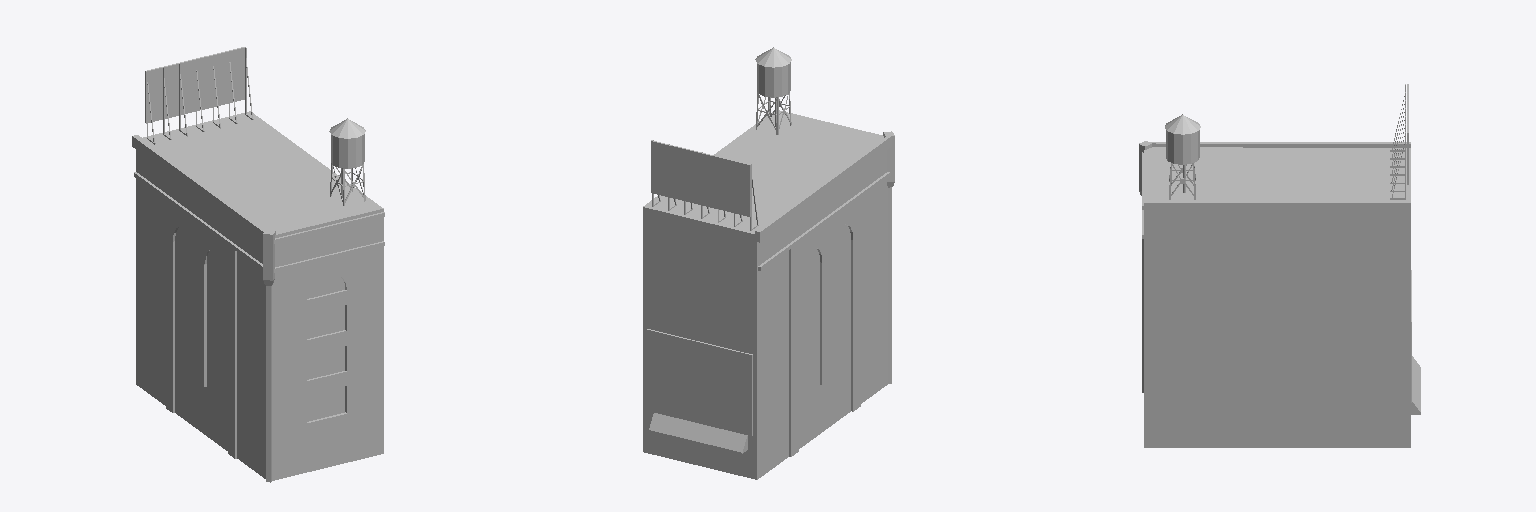
File: TB1ezbKRVXXXXcPXpXXXXXXXXXX.obj
3 renders of one model, left to right at view 1: azimuth 30°, elevation 25°; view 2: azimuth 150°, elevation 25°; view 3: azimuth 270°, elevation 25°, orthographic.
Parts seen in each view (by area): view 1: BuildingF:BuildingF BuildingF:BuildingF_model_GRP BuildingF:NY10; view 2: BuildingF:BuildingF BuildingF:BuildingF_model_GRP BuildingF:NY10; view 3: BuildingF:BuildingF BuildingF:BuildingF_model_GRP BuildingF:NY10.
Part boxes in pixels (left/top/right/bottom): BuildingF:BuildingF BuildingF:BuildingF_model_GRP BuildingF:NY10: left=132, top=47, right=384, bottom=482; BuildingF:BuildingF BuildingF:BuildingF_model_GRP BuildingF:NY10: left=643, top=47, right=894, bottom=479; BuildingF:BuildingF BuildingF:BuildingF_model_GRP BuildingF:NY10: left=1139, top=84, right=1420, bottom=447.
Bounding box in the file's own units: 3242 × 8417 × 6624.